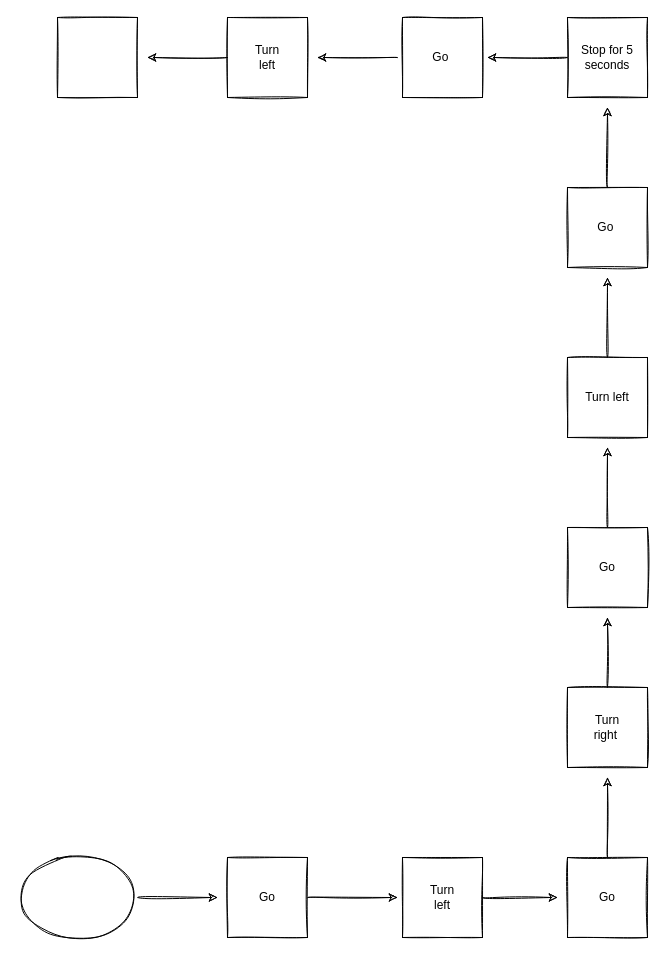
Image size: 665x955. Some labels were removed from this diagram. The shapes that lost their labels are listed below. From the top down, each one's box as (x1, y1, x2, y2) in pixels, then its label:
(56, 16, 138, 98): Text
(16, 856, 138, 938): Start
